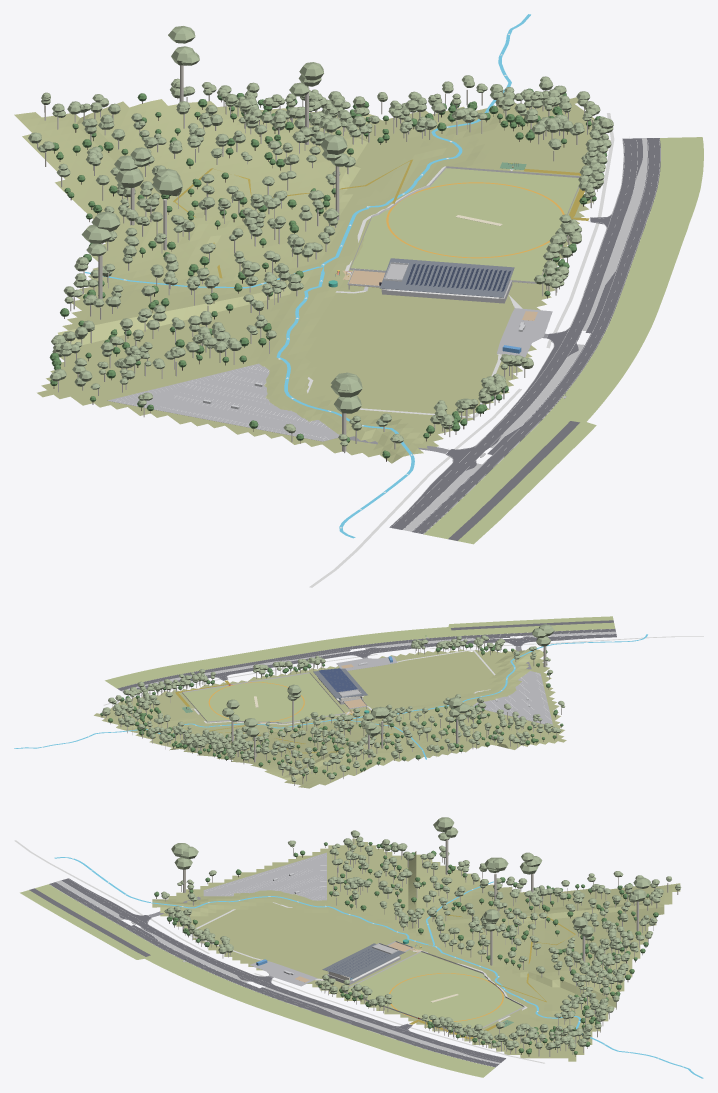
The model's file is KHFR_stage3_summer.glb.
3 views of the same model, one above another, from view 1: azimuth 30°, elevation 25°; view 2: azimuth 150°, elevation 25°; view 3: azimuth 270°, elevation 25° (orthographic). The views are drawn at different scales.
Parts seen in each view (by area): view 1: Reserve terrain, Bushland forest (euc_can), Road reserve (far verge), field N flatgrass, Bush planting zones (euc_can), Swansea Rd NE-bound (surveyed both edges), New car park (~220), Giant eucalypts (canopies), Swansea Rd SW-bound (2 lanes, smooth), Bushland forest (wat_can), Pavilion roof (skillion), Median (separated) (+10 smaller); view 2: Reserve terrain, Bushland forest (euc_can), Road reserve (far verge), field N flatgrass, Bush planting zones (euc_can), New car park (~220), Giant eucalypts (canopies), Swansea Rd SW-bound (2 lanes, smooth), Bushland forest (wat_can), Swansea Rd NE-bound (surveyed both edges), Bush planting zones (wat_can), Bushland forest (euc_trunk) (+10 smaller); view 3: Reserve terrain, Bushland forest (euc_can), Road reserve (far verge), field N flatgrass, Bush planting zones (euc_can), Swansea Rd NE-bound (surveyed both edges), New car park (~220), Swansea Rd SW-bound (2 lanes, smooth), Giant eucalypts (canopies), Bushland forest (wat_can), Median (separated), Bushland forest (euc_trunk) (+10 smaller).
Boxes of the visible parts, x1,y1,x2,y2 form: Reserve terrain: [14, 97, 610, 463]; Bushland forest (euc_can): [28, 78, 403, 446]; Road reserve (far verge): [423, 137, 703, 544]; field N flatgrass: [351, 168, 579, 283]; Bush planting zones (euc_can): [202, 75, 613, 429]; Swansea Rd NE-bound (surveyed both edges): [389, 138, 642, 529]; New car park (~220): [107, 363, 339, 441]; Giant eucalypts (canopies): [81, 26, 362, 413]; Swansea Rd SW-bound (2 lanes, smooth): [412, 138, 660, 534]; Bushland forest (wat_can): [49, 93, 390, 458]; Pavilion roof (skillion): [379, 258, 514, 297]; Median (separated): [403, 138, 647, 531]; Reserve terrain: [94, 648, 566, 788]; Bushland forest (euc_can): [183, 646, 565, 781]; Road reserve (far verge): [105, 616, 615, 688]; field N flatgrass: [183, 673, 343, 722]; Bush planting zones (euc_can): [102, 635, 505, 758]; New car park (~220): [473, 671, 552, 724]; Giant eucalypts (canopies): [222, 624, 554, 736]; Swansea Rd SW-bound (2 lanes, smooth): [117, 629, 615, 690]; Bushland forest (wat_can): [225, 650, 563, 776]; Swansea Rd NE-bound (surveyed both edges): [123, 634, 616, 695]; Bush planting zones (wat_can): [100, 643, 495, 759]; Bushland forest (euc_trunk): [197, 651, 561, 785]; Reserve terrain: [152, 838, 680, 1061]; Bushland forest (euc_can): [161, 830, 681, 987]; Road reserve (far verge): [20, 884, 495, 1077]; field N flatgrass: [346, 952, 522, 1034]; Bush planting zones (euc_can): [164, 906, 652, 1050]; Swansea Rd NE-bound (surveyed both edges): [61, 878, 505, 1062]; New car park (~220): [203, 852, 326, 900]; Swansea Rd SW-bound (2 lanes, smooth): [49, 882, 499, 1067]; Giant eucalypts (canopies): [171, 817, 650, 937]; Bushland forest (wat_can): [154, 842, 658, 980]; Median (separated): [56, 880, 500, 1063]; Bushland forest (euc_trunk): [165, 838, 678, 995].
Bounding box in the file's own units: 495 × 72.83 × 604.
